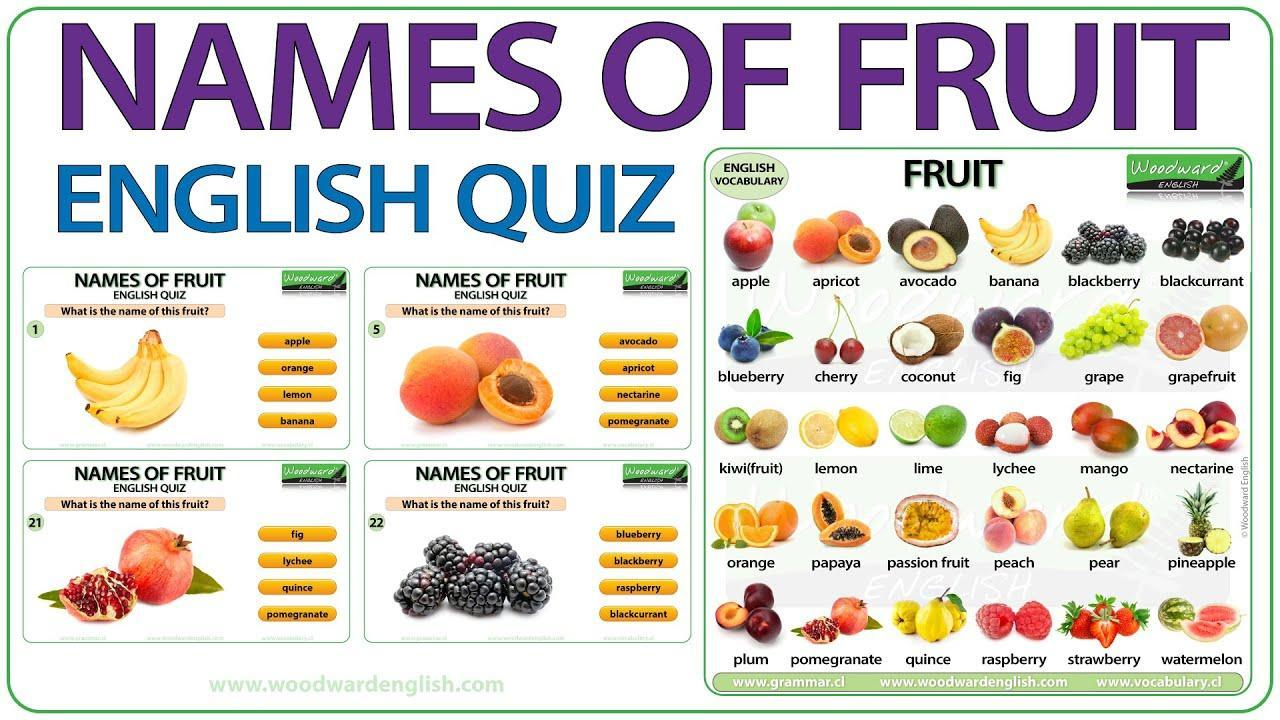apple: (724, 220, 775, 272)
